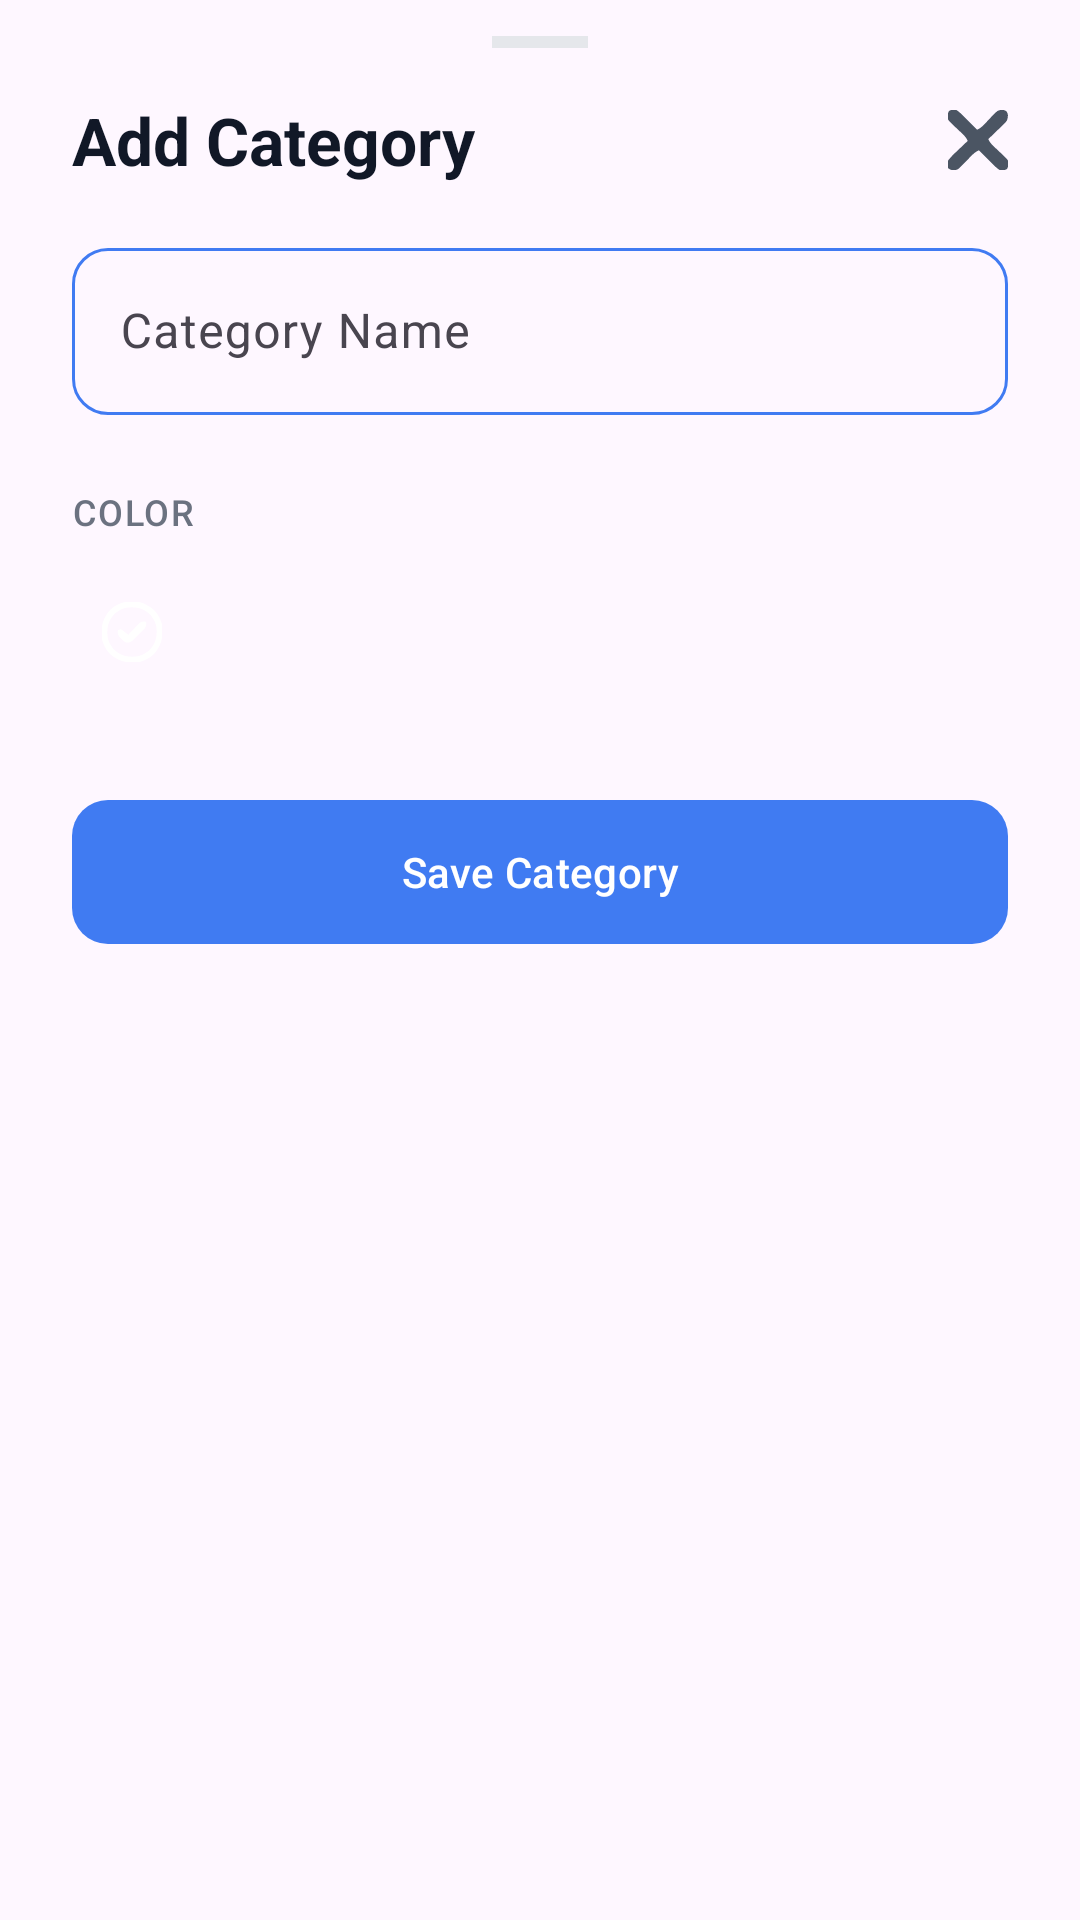

Icon click points for this 1080x1920 phone screenshot, format [x,y]:
Close: [978,140]
